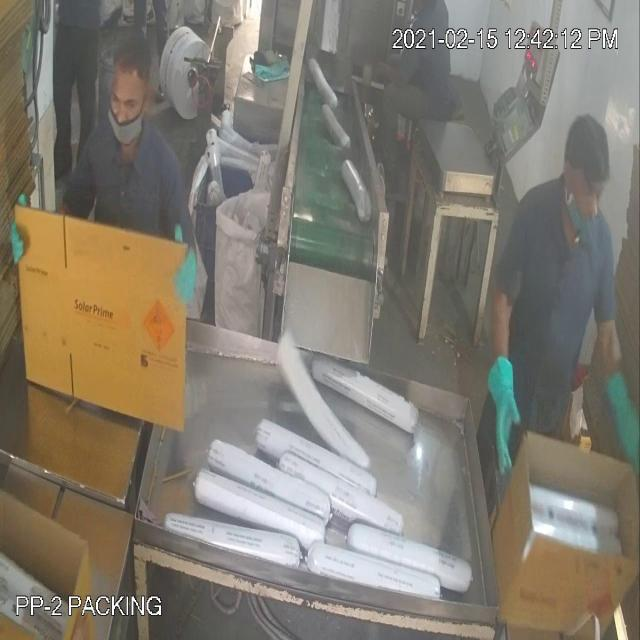gloves: (486, 342, 526, 471), (600, 354, 640, 476)
